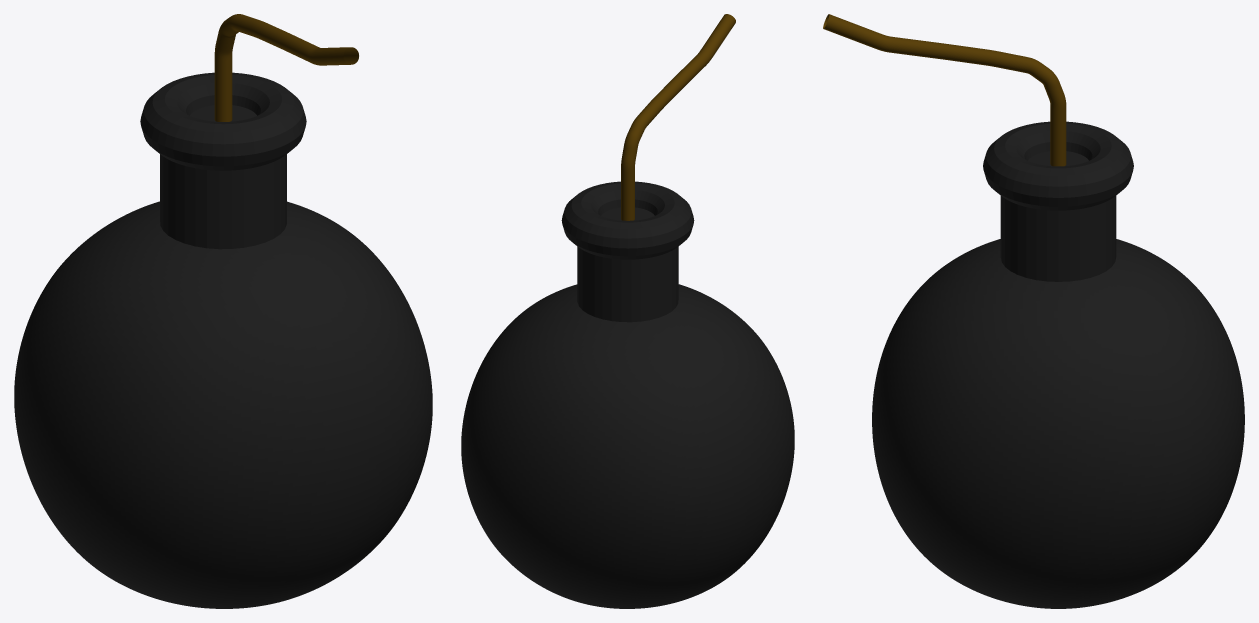
Rendered from Bomb.fbx.
3 renders of one model, left to right at view 1: azimuth 30°, elevation 25°; view 2: azimuth 150°, elevation 25°; view 3: azimuth 270°, elevation 25°, orthographic. The views are drawn at different scales.
Parts seen in each view (by area): view 1: Cube, Torus, Cylinder, Cylinder.001; view 2: Cube, Torus, Cylinder, Cylinder.001; view 3: Cube, Torus, Cylinder, Cylinder.001.
Boxes of the visible parts, left/top/right/bottom form: Cube: left=14, top=201, right=432, bottom=608; Torus: left=140, top=72, right=306, bottom=170; Cylinder: left=160, top=105, right=286, bottom=249; Cylinder.001: left=214, top=14, right=358, bottom=121; Cube: left=461, top=284, right=794, bottom=608; Torus: left=561, top=181, right=694, bottom=259; Cylinder: left=577, top=207, right=678, bottom=322; Cylinder.001: left=621, top=14, right=735, bottom=220; Cube: left=872, top=239, right=1244, bottom=608; Torus: left=983, top=121, right=1133, bottom=210; Cylinder: left=1000, top=151, right=1116, bottom=281; Cylinder.001: left=823, top=14, right=1066, bottom=166.
Bounding box in the file's own units: 168 × 285 × 190.
